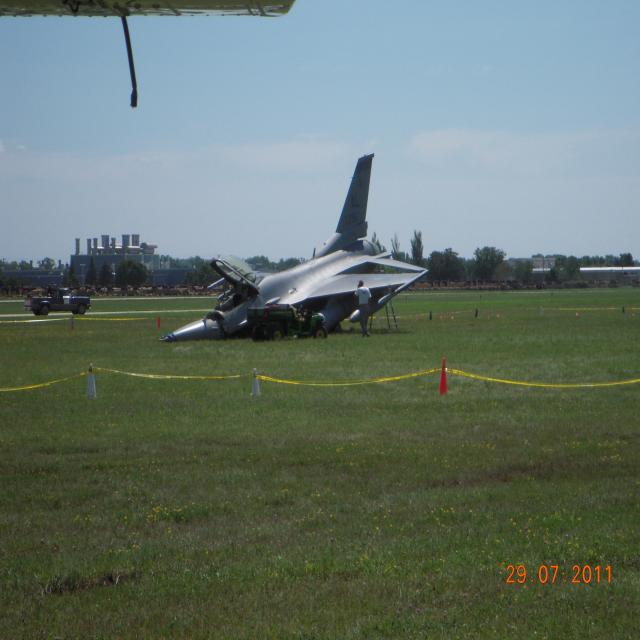MIL_Plane: (158, 152, 428, 342)
